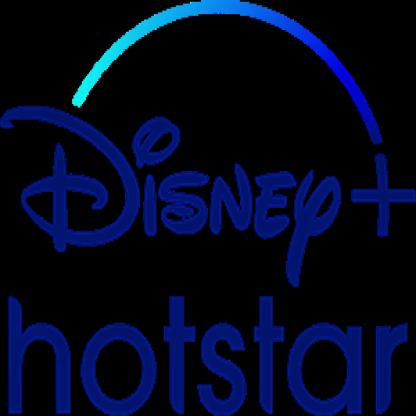Hotstar: (1, 1, 416, 416)
